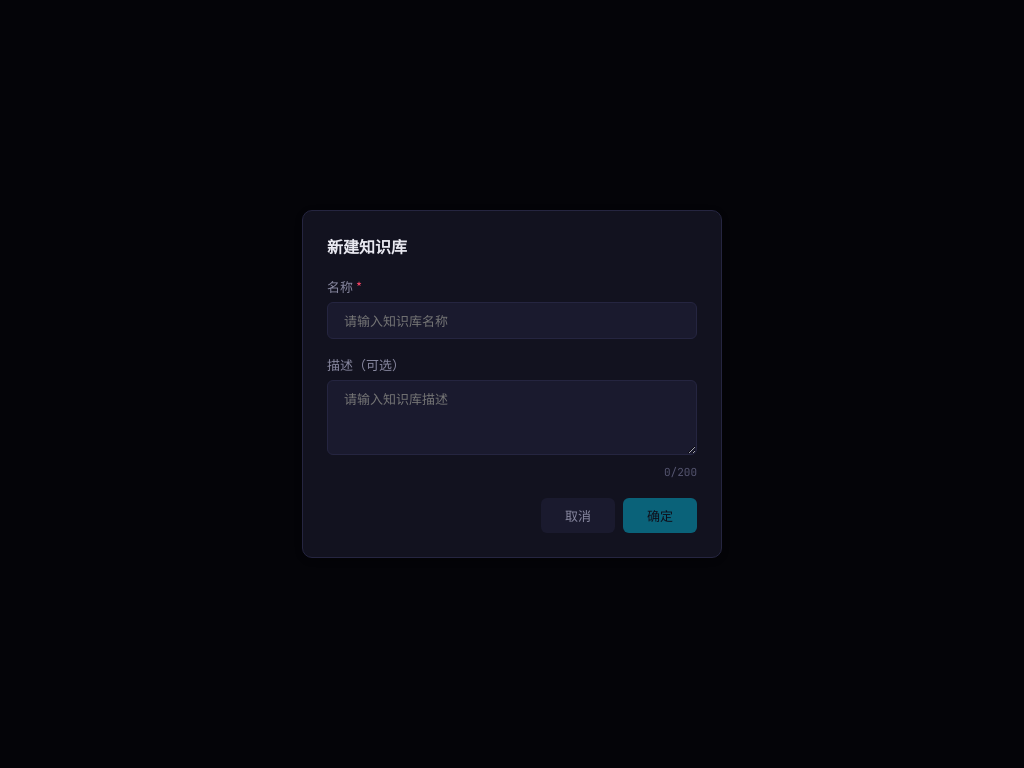
Test: CreateKnowledgeBaseDialog › 后端返回名称重复错误时弹窗内提示，弹窗不关闭（AC-030）
In the field with class "name-input": coordinates (512, 320) x1=327 y1=302 x2=697 y2=339, type "重复名称"
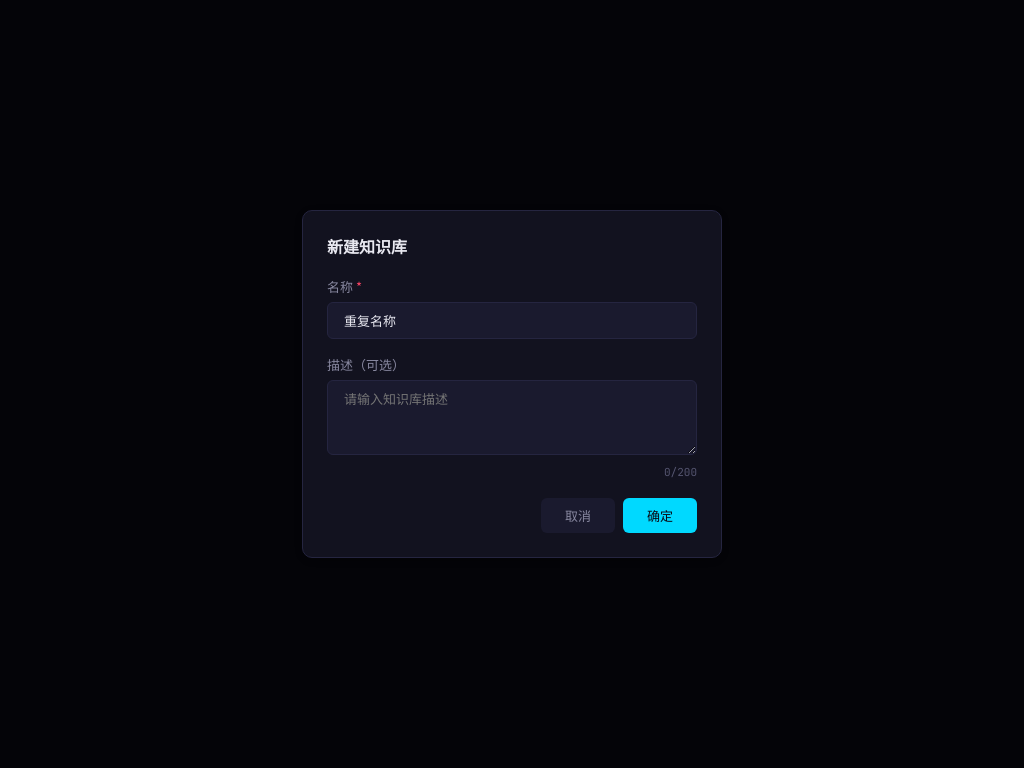
Click the button with class "btn-submit": coordinates (660, 515) x1=623 y1=498 x2=697 y2=533
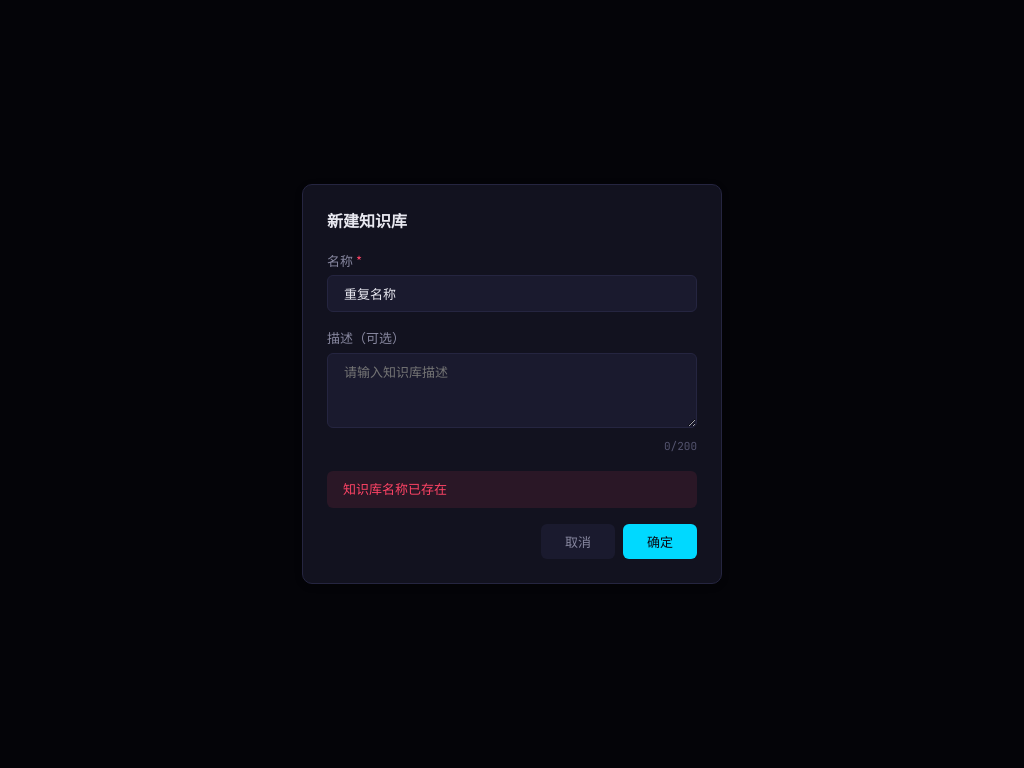
Expected: the text with class "dialog-error" shows "已存在", x1=327 y1=471 x2=697 y2=508
